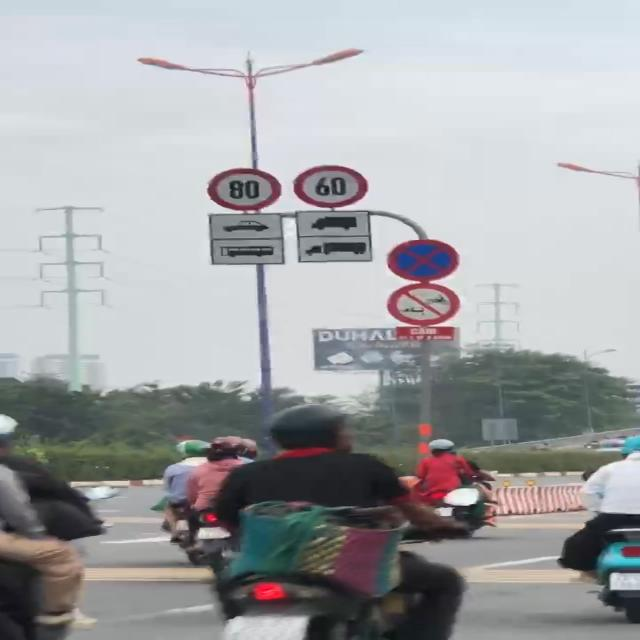Bien bao cam dung xe va do xe: (386, 238, 461, 283)
Bien bao toc do toi da cho phep: (289, 163, 368, 210), (203, 166, 282, 210)
